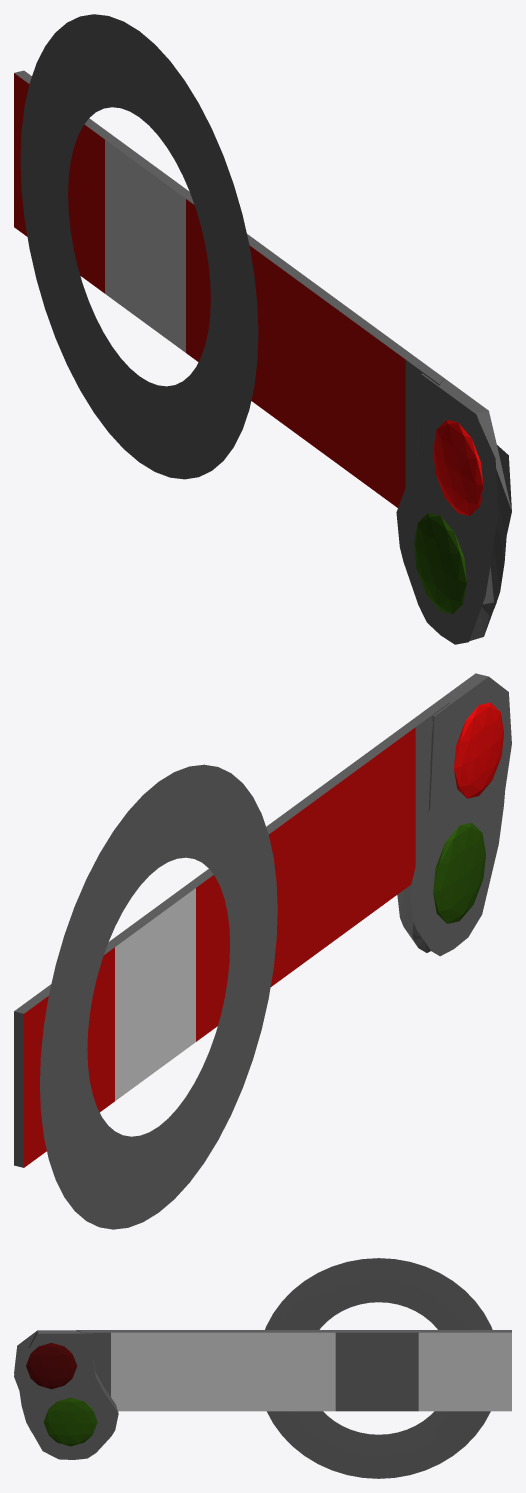
Rendered from calling-on-arm-lq.dae.
3 views of the same model, one above another, from view 1: azimuth 30°, elevation 25°; view 2: azimuth 150°, elevation 25°; view 3: azimuth 270°, elevation 25° (orthographic). The views are drawn at different scales.
Visible parts, largest first — view 1: Torus_002, Cube_019, Cube_018, Icosphere_012, Icosphere_011; view 2: Cube_019, Torus_002, Cube_018, Icosphere_012, Icosphere_011; view 3: Cube_019, Torus_002, Cube_018, Icosphere_010, Icosphere_009.
Part boxes in pixels (left/top/right/bottom): Torus_002: left=20, top=14, right=258, bottom=479; Cube_019: left=14, top=70, right=444, bottom=507; Cube_018: left=396, top=373, right=511, bottom=644; Icosphere_012: left=414, top=513, right=466, bottom=613; Icosphere_011: left=433, top=420, right=483, bottom=515; Cube_019: left=14, top=702, right=449, bottom=1167; Torus_002: left=40, top=764, right=277, bottom=1229; Cube_018: left=397, top=673, right=511, bottom=956; Icosphere_012: left=433, top=822, right=485, bottom=923; Icosphere_011: left=454, top=702, right=503, bottom=798; Cube_019: left=76, top=1330, right=511, bottom=1411; Torus_002: left=265, top=1258, right=492, bottom=1478; Cube_018: left=14, top=1330, right=118, bottom=1459; Icosphere_010: left=43, top=1397, right=97, bottom=1446; Icosphere_009: left=26, top=1342, right=77, bottom=1389.
Bounding box in the file's own units: 0.0231 × 0.6899 × 0.3375.
